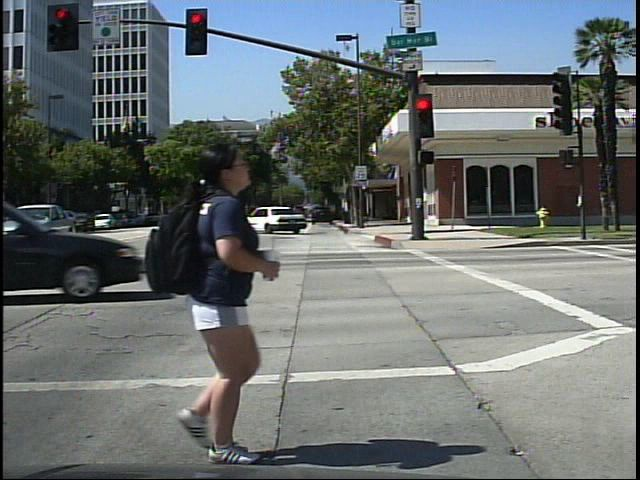person: (123, 126, 318, 469)
